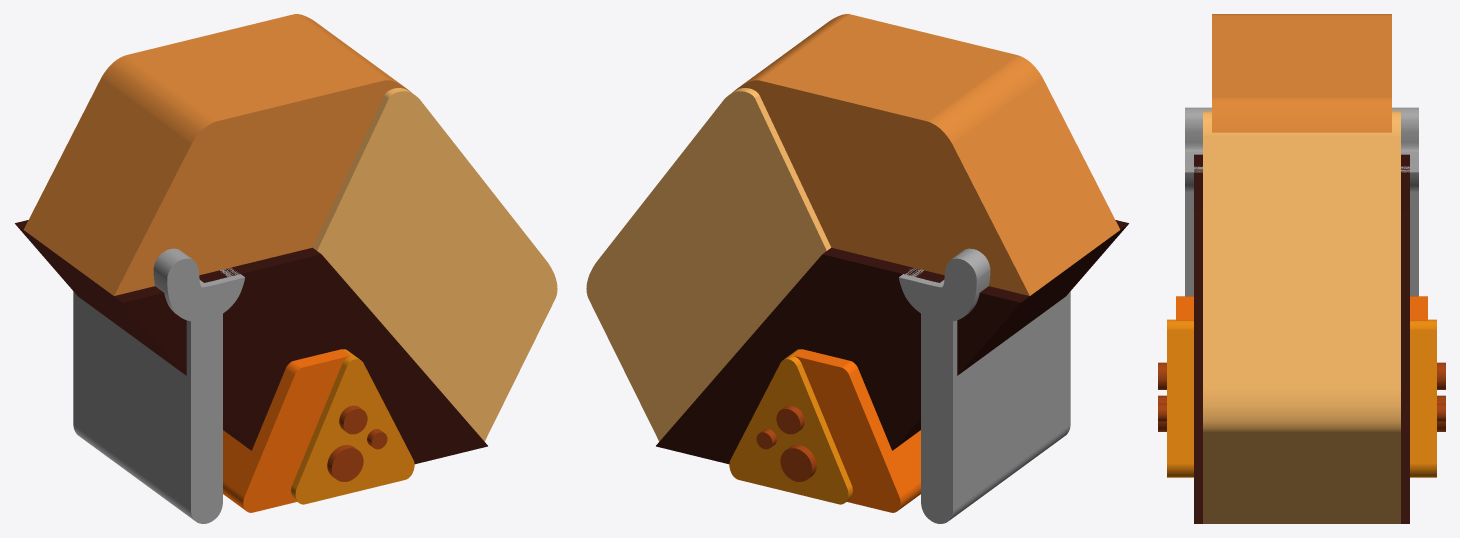
The model's file is U+1FAA4.obj.
The picture shows the model from 3 angles, left to right: view 1: azimuth 30°, elevation 25°; view 2: azimuth 150°, elevation 25°; view 3: azimuth 270°, elevation 25°; orthographic projection.
Parts seen in each view (by area): view 1: U+1FAA4_layer00_obj00, U+1FAA4_layer01_obj00, U+1FAA4_layer02_obj00, U+1FAA4_layer03_obj00, U+1FAA4_layer04_obj00, U+1FAA4_layer05_obj00, U+1FAA4_layer06_obj00; view 2: U+1FAA4_layer00_obj00, U+1FAA4_layer01_obj00, U+1FAA4_layer02_obj00, U+1FAA4_layer03_obj00, U+1FAA4_layer04_obj00, U+1FAA4_layer05_obj00, U+1FAA4_layer06_obj00; view 3: U+1FAA4_layer01_obj00, U+1FAA4_layer00_obj00, U+1FAA4_layer05_obj00, U+1FAA4_layer02_obj00, U+1FAA4_layer03_obj00, U+1FAA4_layer06_obj00, U+1FAA4_layer04_obj00.
Boxes of the visible parts, x1,y1,x2,y2 form: U+1FAA4_layer00_obj00: (23, 14, 411, 295); U+1FAA4_layer01_obj00: (312, 88, 557, 441); U+1FAA4_layer02_obj00: (15, 220, 487, 464); U+1FAA4_layer03_obj00: (73, 248, 244, 523); U+1FAA4_layer04_obj00: (223, 349, 350, 512); U+1FAA4_layer05_obj00: (291, 349, 414, 504); U+1FAA4_layer06_obj00: (327, 405, 387, 481); U+1FAA4_layer00_obj00: (732, 14, 1120, 295); U+1FAA4_layer01_obj00: (586, 88, 831, 441); U+1FAA4_layer02_obj00: (656, 220, 1128, 464); U+1FAA4_layer03_obj00: (899, 248, 1070, 523); U+1FAA4_layer04_obj00: (793, 349, 920, 512); U+1FAA4_layer05_obj00: (729, 349, 852, 504); U+1FAA4_layer06_obj00: (756, 405, 816, 481); U+1FAA4_layer01_obj00: (1203, 111, 1400, 523); U+1FAA4_layer00_obj00: (1212, 14, 1391, 132); U+1FAA4_layer05_obj00: (1167, 319, 1436, 477); U+1FAA4_layer02_obj00: (1194, 154, 1409, 523); U+1FAA4_layer03_obj00: (1185, 107, 1418, 296); U+1FAA4_layer06_obj00: (1158, 362, 1445, 431); U+1FAA4_layer04_obj00: (1176, 296, 1427, 320).
Size of the model in its own units: 0.5602 by 0.4715 by 0.32.
